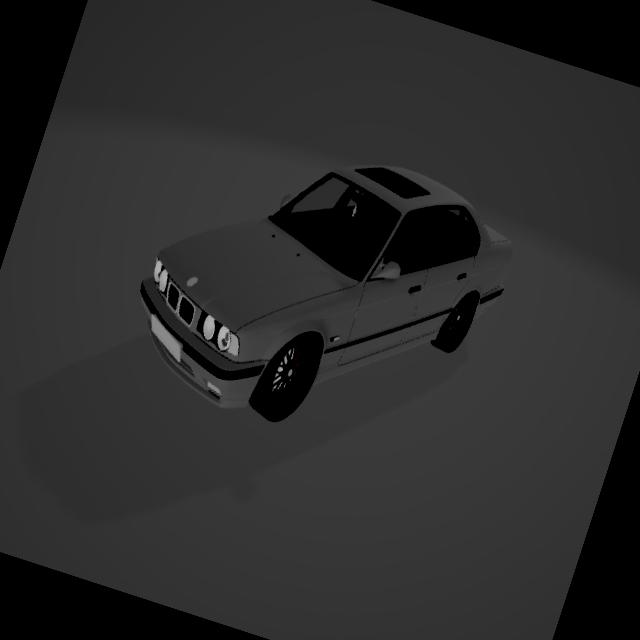Car: (136, 157, 522, 431)
